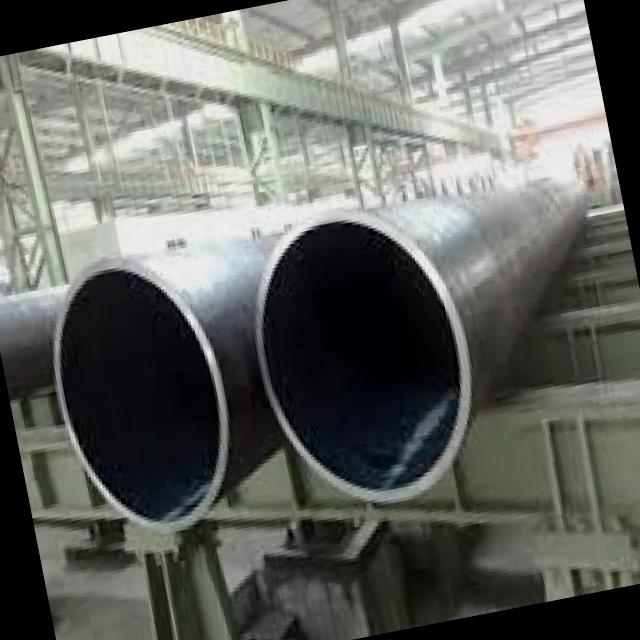gas: (0, 181, 582, 525)
